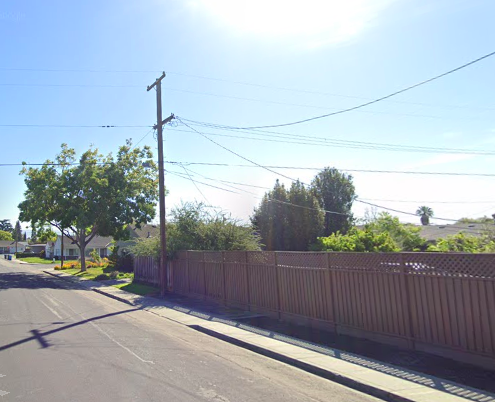tree: (17, 136, 157, 272)
utility_pole: (142, 65, 178, 140)
